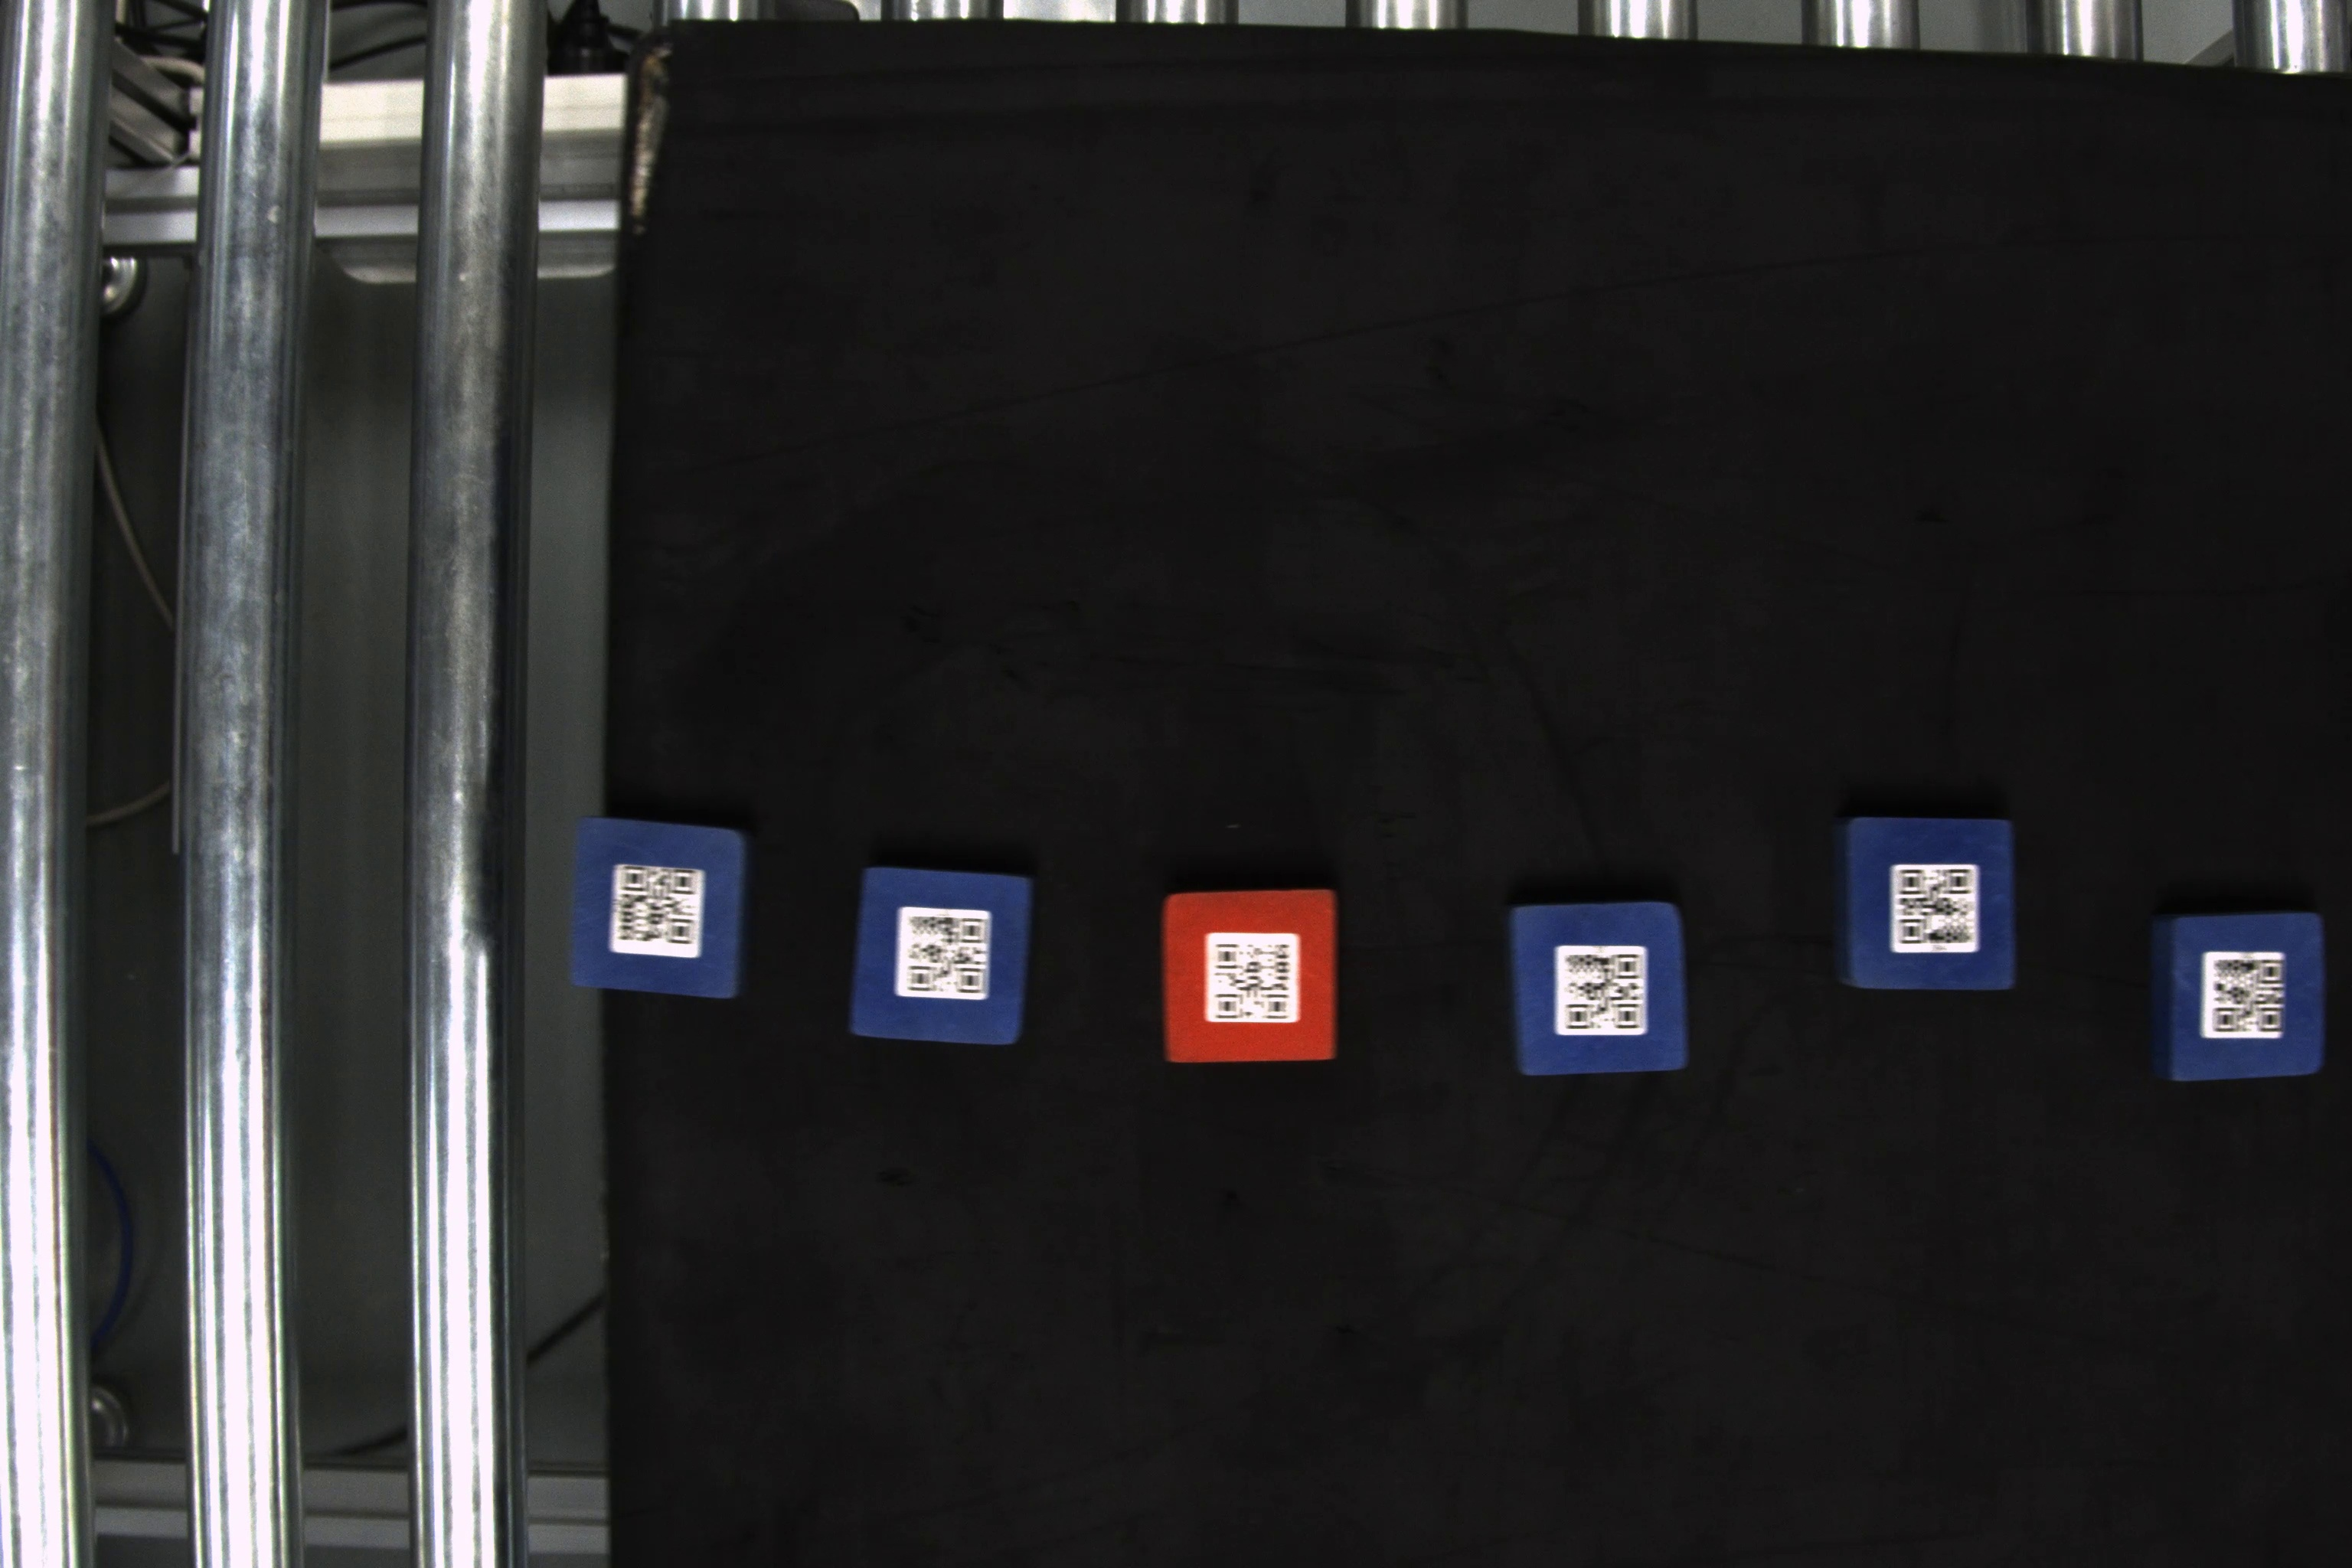wood: (569, 808, 763, 1006), (843, 857, 1038, 1050), (1157, 882, 1349, 1066), (1498, 896, 1692, 1078), (1825, 807, 2016, 990), (2154, 913, 2329, 1085)
